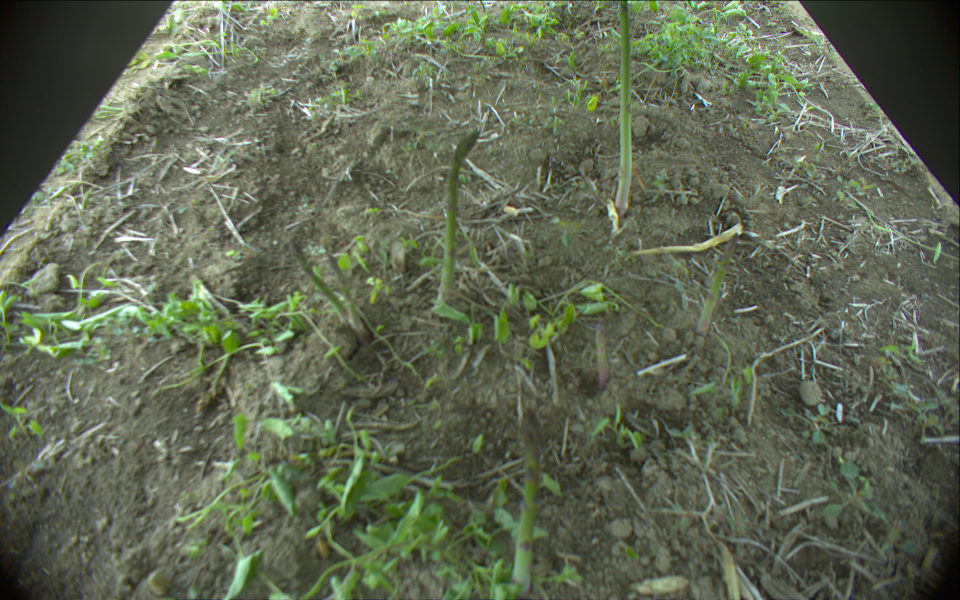aspa: (512, 408, 544, 597), (289, 241, 349, 326), (696, 230, 738, 344), (323, 239, 368, 338), (615, 1, 632, 211), (596, 319, 608, 390)
